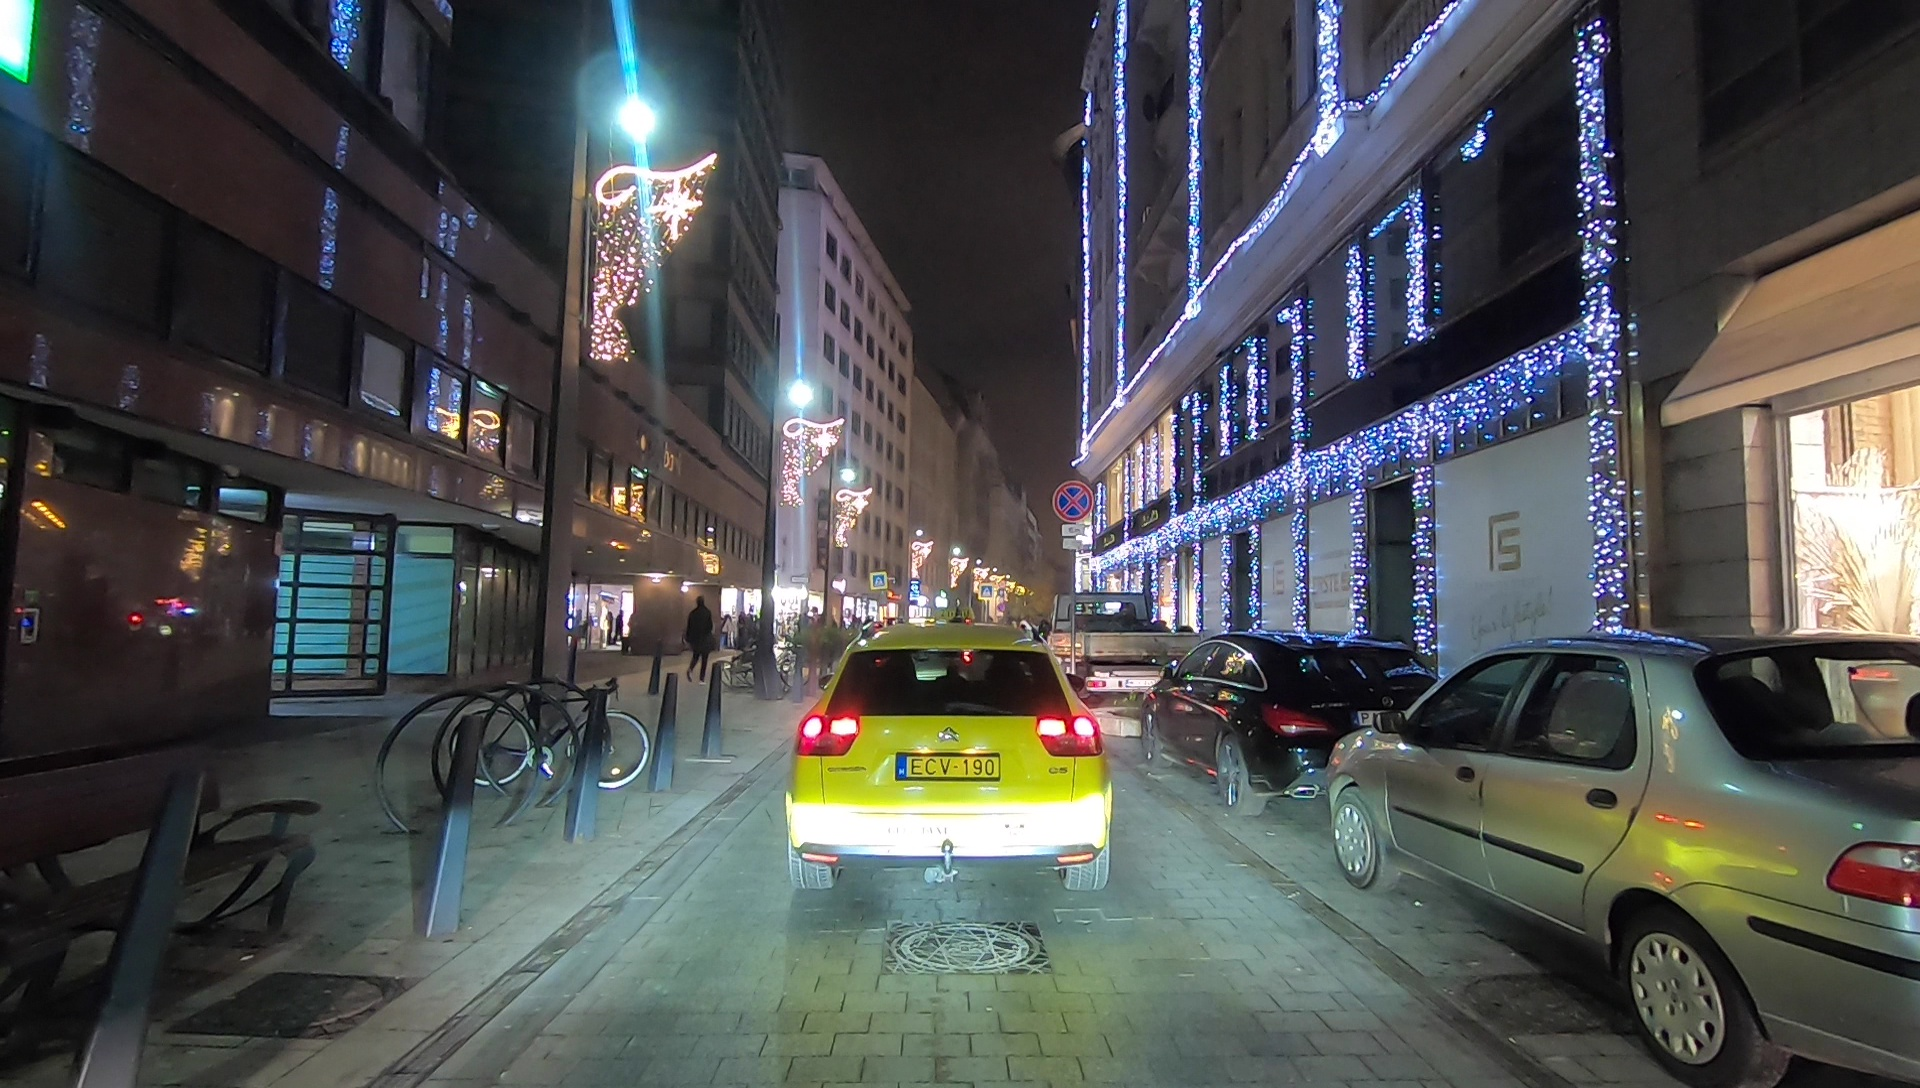person: (686, 597, 712, 684)
